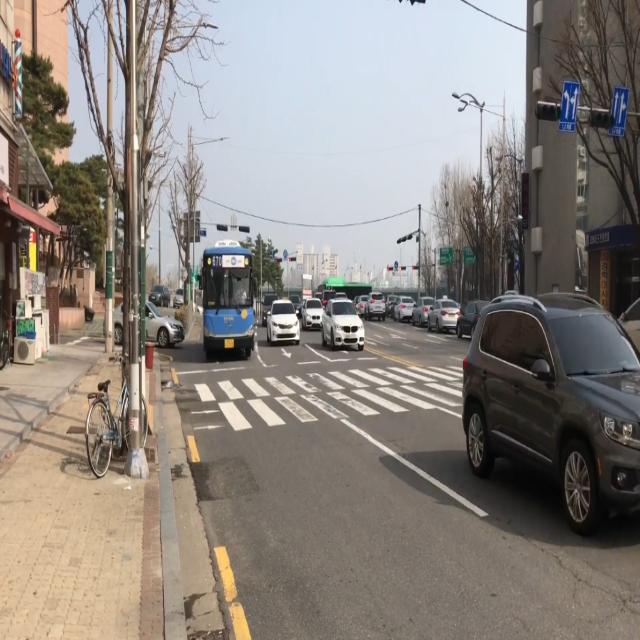bus-number: (212, 255, 222, 267)
